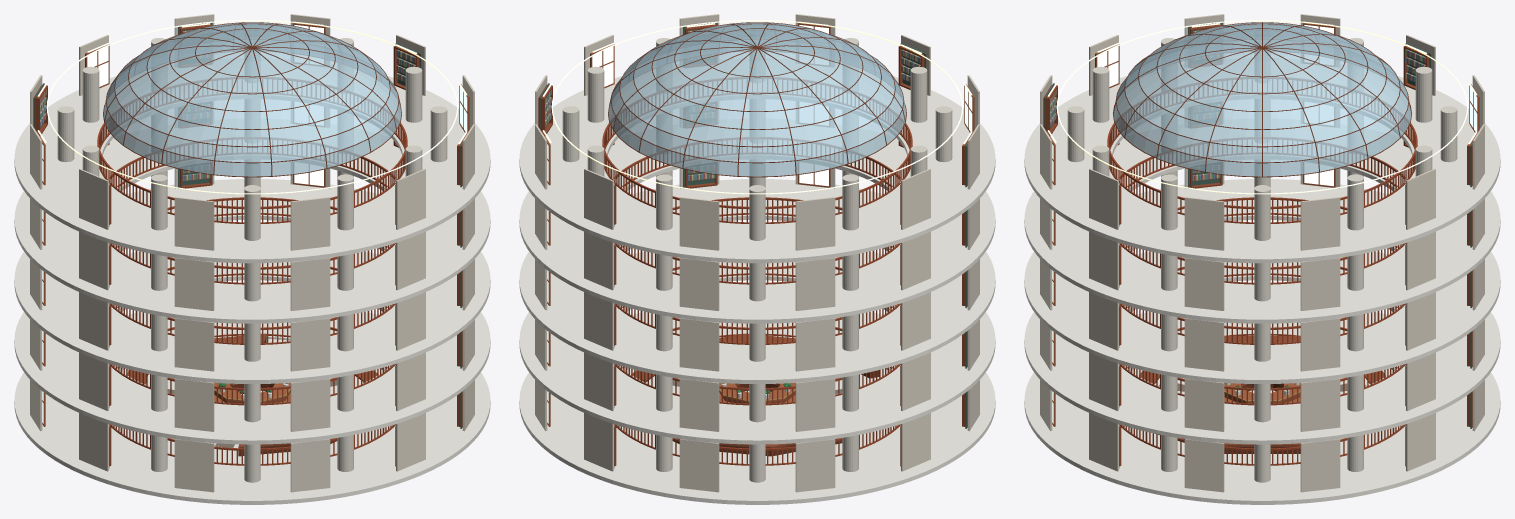
File: yunnan_library_atrium.glb
3 views of the same model, side by side, from view 1: azimuth 30°, elevation 25°; view 2: azimuth 150°, elevation 25°; view 3: azimuth 270°, elevation 25° (orthographic).
Visible parts, largest first — view 1: DomeGlass, FloorRing_05, FloorRing_04, FloorRing_03, FloorRing_02, FloorRing_01, V61_Background_Walls_F05, V61_Background_Walls_F03, V61_Background_Walls_F04, V61_Background_Walls_F01, V61_Background_Walls_F02, Railings_Floor_05 (+26 smaller); view 2: DomeGlass, FloorRing_05, FloorRing_04, FloorRing_03, FloorRing_02, FloorRing_01, V61_Background_Walls_F05, V61_Background_Walls_F03, V61_Background_Walls_F04, V61_Background_Walls_F01, V61_Background_Walls_F02, Railings_Floor_05 (+26 smaller); view 3: DomeGlass, FloorRing_05, FloorRing_04, FloorRing_03, FloorRing_02, FloorRing_01, V61_Background_Walls_F05, V61_Background_Walls_F03, V61_Background_Walls_F04, V61_Background_Walls_F01, V61_Background_Walls_F02, Railings_Floor_05 (+27 smaller).
Part boxes in pixels (x1,y1,x2,y2): DomeGlass: (103,22,401,176); FloorRing_05: (14,58,490,263); FloorRing_04: (14,119,490,323); FloorRing_03: (14,179,490,384); FloorRing_02: (14,251,490,444); FloorRing_01: (14,312,490,504); V61_Background_Walls_F05: (30,14,474,250); V61_Background_Walls_F03: (30,162,474,371); V61_Background_Walls_F04: (30,101,474,310); V61_Background_Walls_F01: (30,380,474,492); V61_Background_Walls_F02: (30,319,474,431); Railings_Floor_05: (97,77,407,223); DomeGlass: (608,22,906,176); FloorRing_05: (519,58,995,263); FloorRing_04: (519,119,995,323); FloorRing_03: (519,179,995,384); FloorRing_02: (519,251,995,444); FloorRing_01: (519,312,995,504); V61_Background_Walls_F05: (535,14,979,250); V61_Background_Walls_F03: (535,162,979,371); V61_Background_Walls_F04: (535,101,979,310); V61_Background_Walls_F01: (535,380,979,492); V61_Background_Walls_F02: (535,319,979,431); Railings_Floor_05: (602,77,912,223); DomeGlass: (1113,22,1411,176); FloorRing_05: (1024,58,1500,263); FloorRing_04: (1024,119,1500,323); FloorRing_03: (1024,179,1500,384); FloorRing_02: (1024,251,1500,444); FloorRing_01: (1024,312,1500,504); V61_Background_Walls_F05: (1040,14,1484,250); V61_Background_Walls_F03: (1040,162,1484,371); V61_Background_Walls_F04: (1040,101,1484,310); V61_Background_Walls_F01: (1040,380,1484,492); V61_Background_Walls_F02: (1040,319,1484,431); Railings_Floor_05: (1107,77,1417,223).
Size of the model in its own units: 30 by 24.82 by 30.
